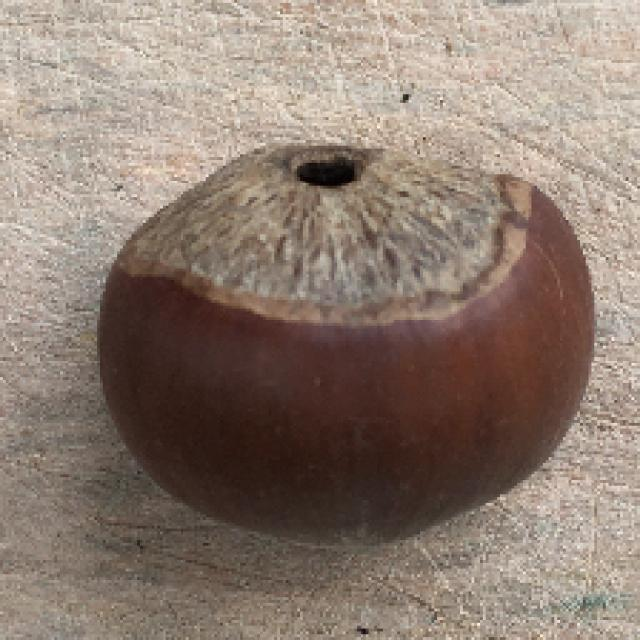DamagedHazelnut: (98, 139, 599, 543)
